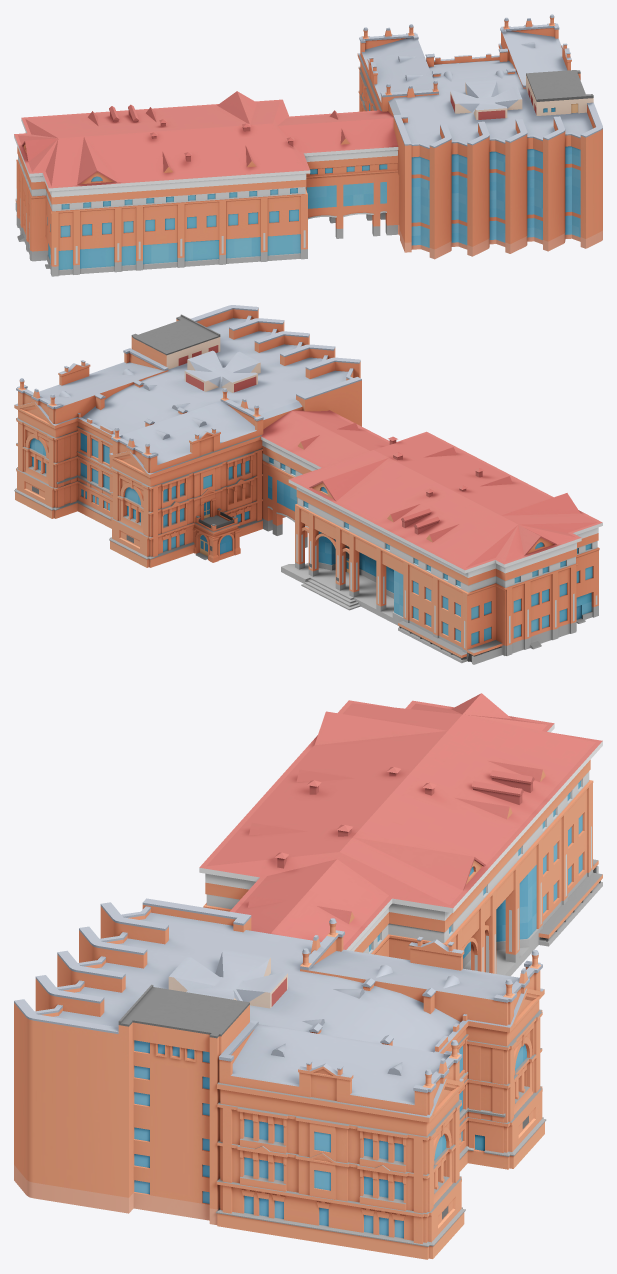
The model's file is school-model.glb.
The picture shows the model from 3 angles, top to bottom: view 1: azimuth 30°, elevation 25°; view 2: azimuth 150°, elevation 25°; view 3: azimuth 270°, elevation 25°; orthographic projection. The views are drawn at different scales.
Parts seen in each view (by area): view 1: Museum_Grodekov_Base; view 2: Museum_Grodekov_Base; view 3: Museum_Grodekov_Base.
Part boxes in pixels (x1,y1,x2,y2): Museum_Grodekov_Base: [14, 14, 602, 276]; Museum_Grodekov_Base: [14, 305, 602, 664]; Museum_Grodekov_Base: [14, 693, 602, 1259].
Bounding box in the file's own units: 137 × 29.25 × 81.81.
1 material, 1 textured.
